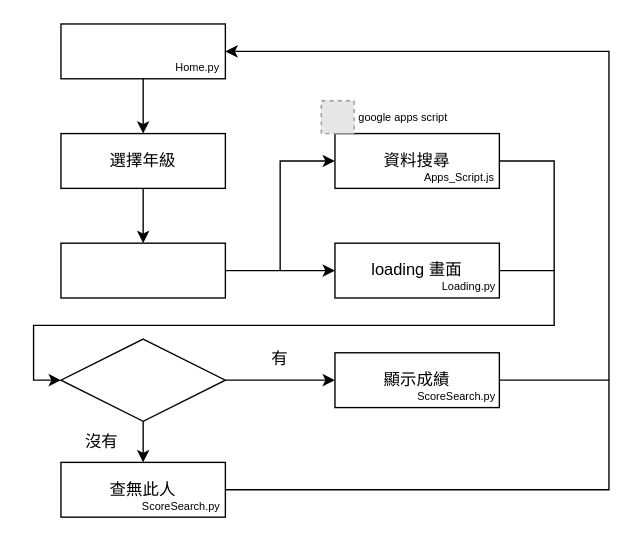
Image size: 644x549. Some labels were removed from this diagram. Grey dashed boxes stand in for pictures. Each missing label, with the box of its shape:
主頁: (60, 23, 225, 79)
搜尋成功？: (60, 338, 225, 421)
輸入號碼: (60, 242, 225, 298)
